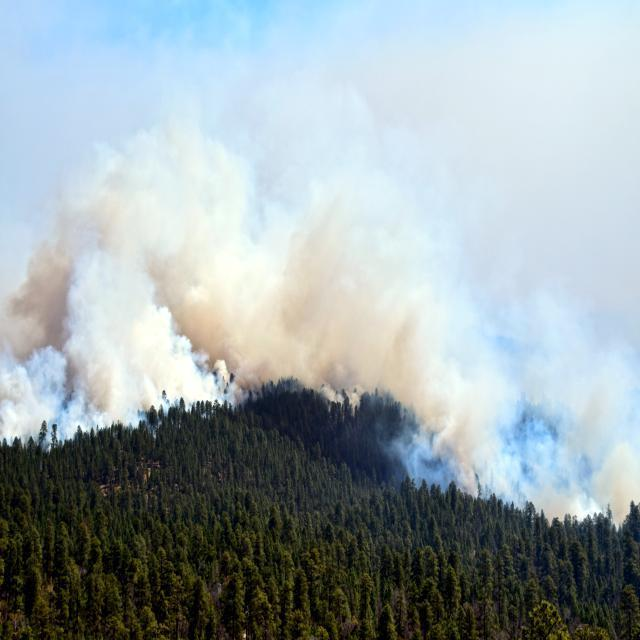Smoke: (0, 0, 635, 510)
